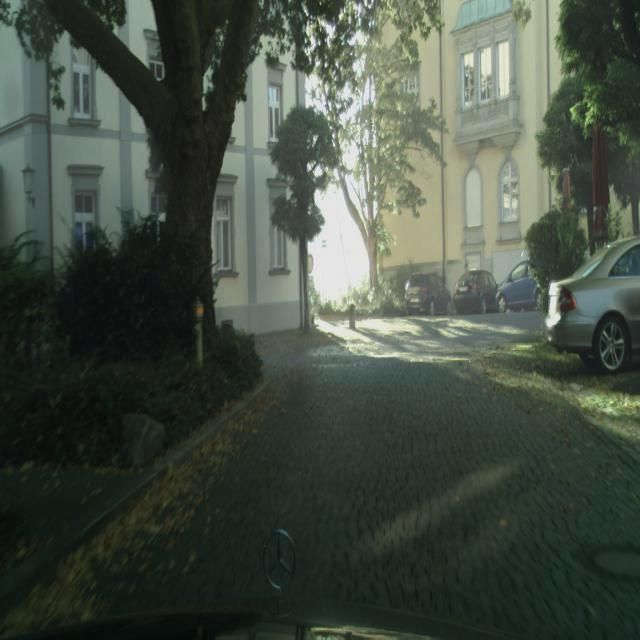bus: (544, 234, 640, 375), (497, 259, 542, 312), (453, 269, 502, 314), (405, 272, 452, 315)
